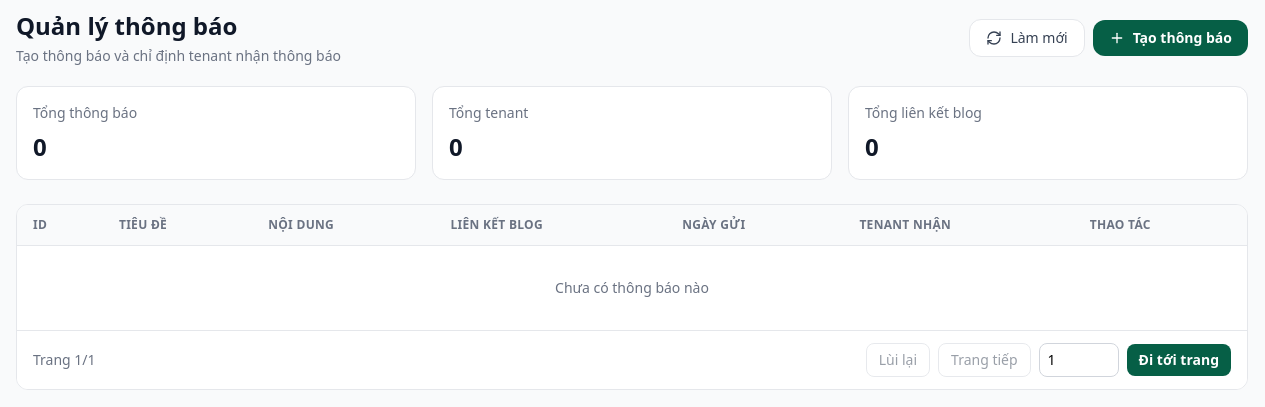
Test: Integration: Admin Notification Management Flow › retries fetch when clicking refresh after first load error
Expected: the text "Chưa có thông báo nào" is shown, x1=17 y1=246 x2=1247 y2=330
Click the button "Làm mới" at (1027, 38), box x1=969 y1=19 x2=1085 y2=57
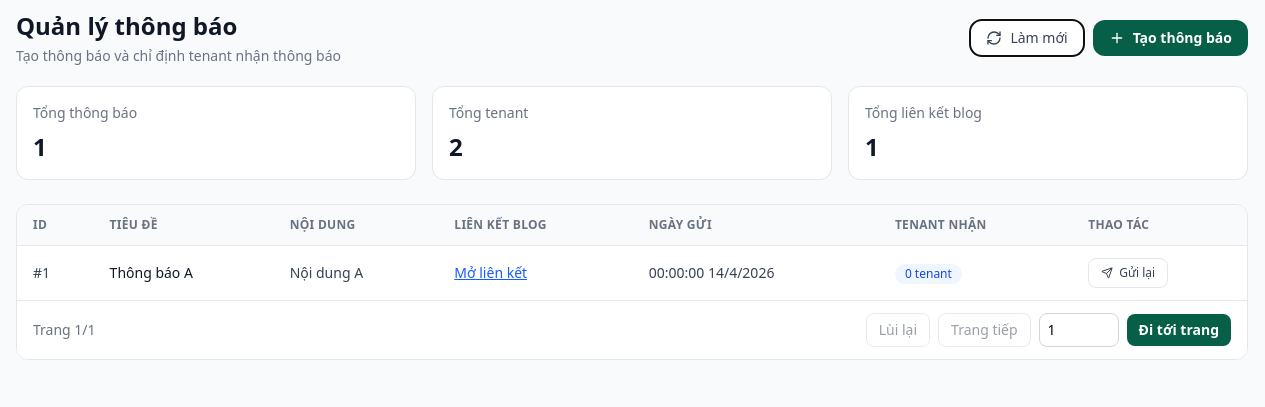
Result: the text "Thông báo A" is shown at x1=94 y1=246 x2=274 y2=300
